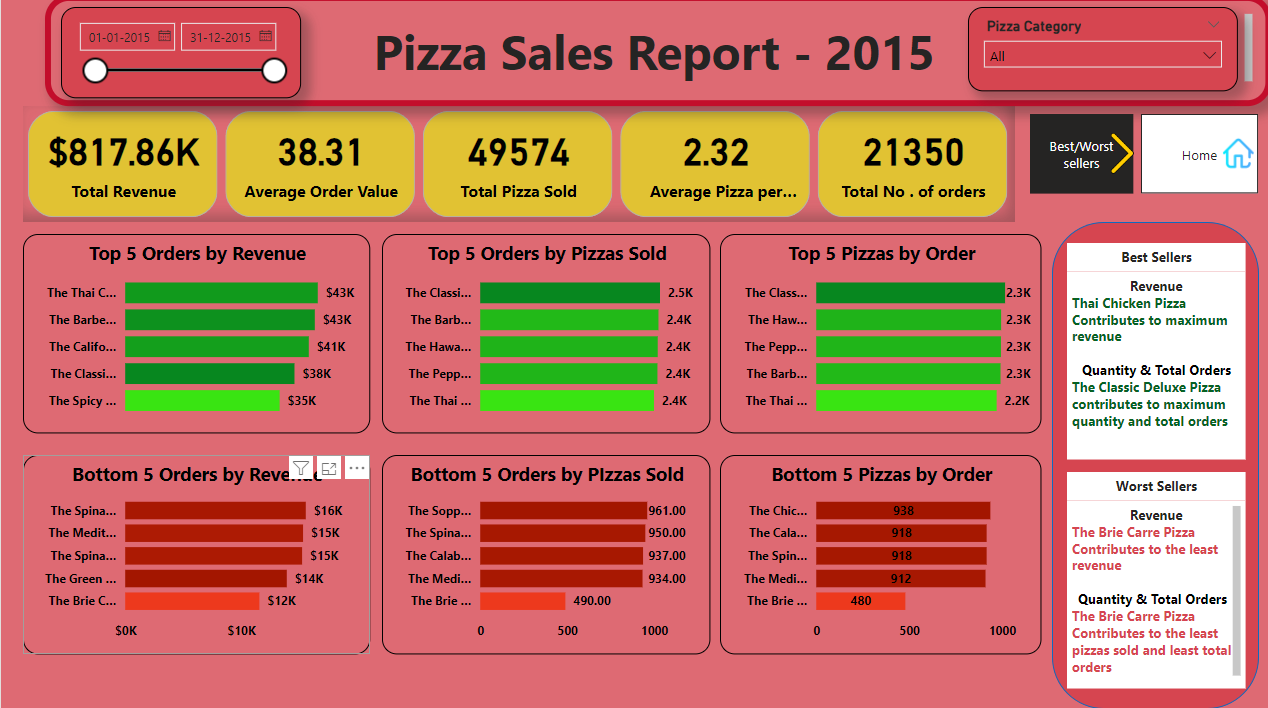

What the dashboard file says about the page in this screenshot:
{"tool":"powerbi","page":{"name":"Best/Worst sellers","canvas":[1280,720],"ordinal":1},"visuals":[{"type":"shape","box":[1059.3,228.8,208.6,490.8],"z":0},{"type":"textbox","box":[1074.4,250,180.4,29.2],"z":0,"group":"g2"},{"type":"textbox","box":[1074.4,480.8,180.4,29.2],"z":0,"group":"g1"},{"type":"cardVisual","fields":{"Data":["Measures (2).Total Revenue","Measures (2).Average Order Value","Measures (2).Total Pizza Sold","Measures (2).Average Pizza per order","Measures (2).Total No . of orders"]},"box":[22.2,111.7,1000.2,117],"z":1000},{"type":"textbox","box":[1074.4,279.2,180.4,189.5],"z":1000,"group":"g2"},{"type":"textbox","box":[1074.4,510,180.4,189.5],"z":1000,"group":"g1"},{"type":"textbox","box":[44.3,0,1235.7,111.9],"z":2000},{"type":"group","id":"g1","title":"Group 1","box":[1074.4,480.8,180.4,218.7],"z":3000},{"type":"group","id":"g2","title":"Group 2","box":[1074.4,250,180.4,218.7],"z":4000},{"type":"slicer","fields":{"Values":["pizza_sales.pizza_category"]},"box":[974.6,12.1,272.1,84.7],"z":5000},{"type":"slicer","fields":{"Values":["pizza_sales.order_date"]},"box":[60.5,12.1,241.9,91.7],"z":6000},{"type":"barChart","title":"Top 5 Orders by Revenue","fields":{"Y":["Measures (2).Total Revenue"],"Category":["pizza_sales.pizza_name"]},"box":[22.1,240.4,349.6,200.9],"z":7000},{"type":"barChart","title":"Top 5 Orders by Pizzas Sold","fields":{"Category":["pizza_sales.pizza_name"],"Y":["Measures (2).Total Pizza Sold"]},"box":[384.5,240.4,331,200.9],"z":8000},{"type":"barChart","title":"Top 5 Pizzas by Order","fields":{"Category":["pizza_sales.pizza_name"],"Y":["Measures (2).Total No . of orders"]},"box":[724.8,240.4,324.1,200.9],"z":9000},{"type":"barChart","title":"Bottom 5 Orders by Revenue","fields":{"Y":["Measures (2).Total Revenue"],"Category":["pizza_sales.pizza_name"]},"box":[22.1,463.4,349.6,200.9],"z":10000},{"type":"barChart","title":"Bottom 5 Orders by PIzzas Sold","fields":{"Category":["pizza_sales.pizza_name"],"Y":["Measures (2).Total Pizza Sold"]},"box":[384.5,463.4,331,200.9],"z":11000},{"type":"barChart","title":"Bottom 5 Pizzas by Order","fields":{"Category":["pizza_sales.pizza_name"],"Y":["Measures (2).Total No . of orders"]},"box":[724.8,463.4,324.1,200.9],"z":12000},{"type":"pageNavigator","box":[1037.1,119.9,104.8,80.6],"z":13000},{"type":"pageNavigator","box":[1149,119.9,118.9,80.6],"z":14000},{"type":"image","box":[1102.6,134,54.4,51.4],"z":15000},{"type":"image","box":[1226.6,134,41.3,51.4],"z":16000}]}

Visuals, with their boxes in screenshot pixels (x1, y1, x2, y2), scaled from the page's 1280x720 canvas onto the 1268x708 screenshot:
shape: [1049, 225, 1256, 707]
textbox: [1064, 246, 1243, 275]
textbox: [1064, 473, 1243, 502]
cardVisual - Measures (2).Total Revenue x Measures (2).Average Order Value: [22, 110, 1013, 225]
textbox: [1064, 275, 1243, 461]
textbox: [1064, 502, 1243, 688]
textbox: [44, 0, 1267, 110]
"Group 1" group: [1064, 473, 1243, 688]
"Group 2" group: [1064, 246, 1243, 461]
slicer - pizza_sales.pizza_category: [965, 12, 1235, 95]
slicer - pizza_sales.order_date: [60, 12, 300, 102]
"Top 5 Orders by Revenue" barChart: [22, 236, 368, 434]
"Top 5 Orders by Pizzas Sold" barChart: [381, 236, 709, 434]
"Top 5 Pizzas by Order" barChart: [718, 236, 1039, 434]
"Bottom 5 Orders by Revenue" barChart: [22, 456, 368, 653]
"Bottom 5 Orders by PIzzas Sold" barChart: [381, 456, 709, 653]
"Bottom 5 Pizzas by Order" barChart: [718, 456, 1039, 653]
pageNavigator: [1027, 118, 1131, 197]
pageNavigator: [1138, 118, 1256, 197]
image: [1092, 132, 1146, 182]
image: [1215, 132, 1256, 182]
